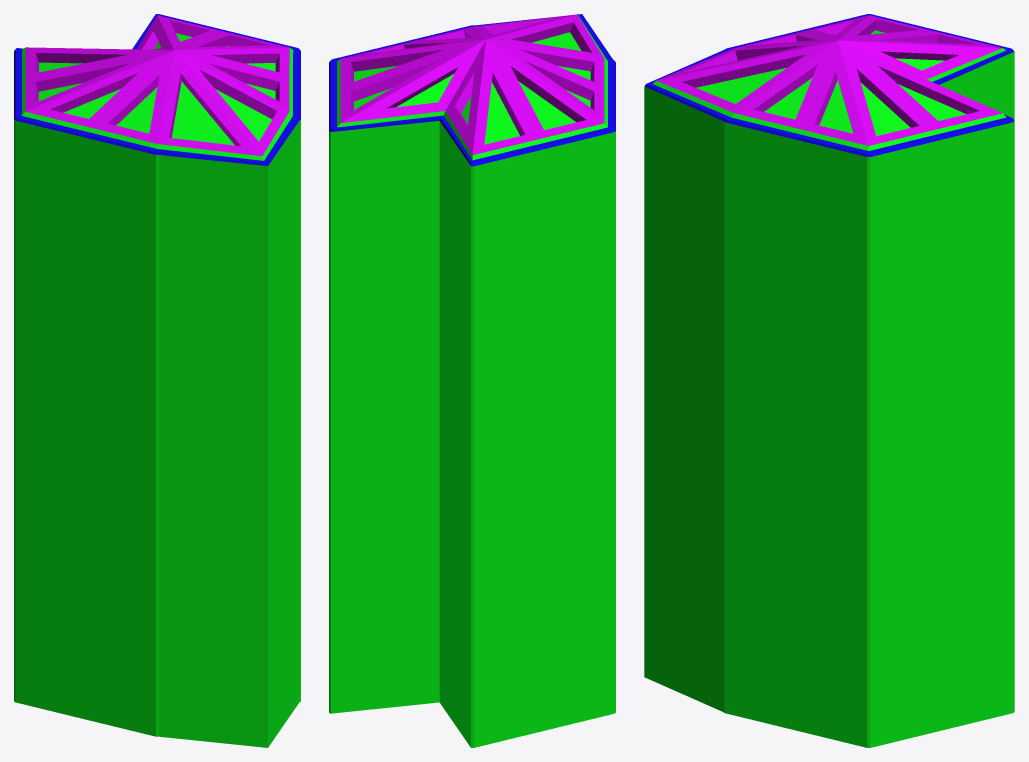
Rendered from TestNonHex.FBX.
3 views of the same model, side by side, from view 1: azimuth 30°, elevation 25°; view 2: azimuth 150°, elevation 25°; view 3: azimuth 270°, elevation 25° (orthographic).
Visible parts, largest first — view 1: Object119; view 2: Object119; view 3: Object119.
Part boxes in pixels (x1,y1,x2,y2): Object119: (14, 14, 300, 747); Object119: (329, 14, 615, 747); Object119: (644, 14, 1014, 747).
Bounding box in the file's own units: 250 × 277 × 526.
